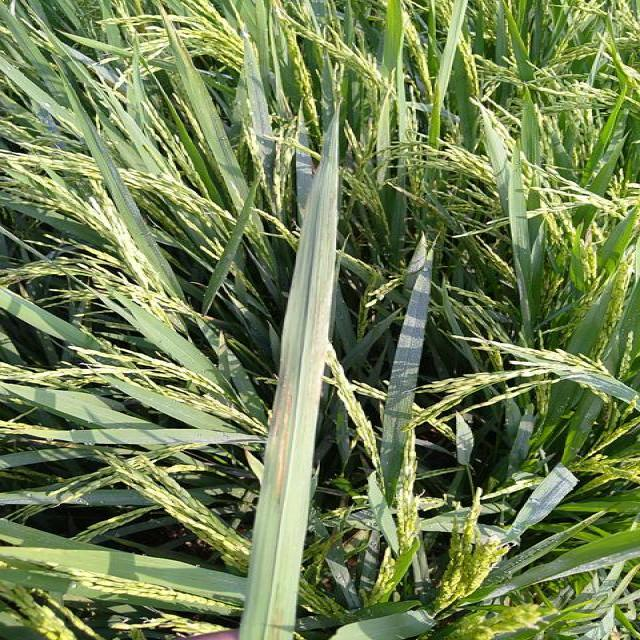Leaf Streak: (267, 375, 292, 504), (265, 602, 283, 639)
